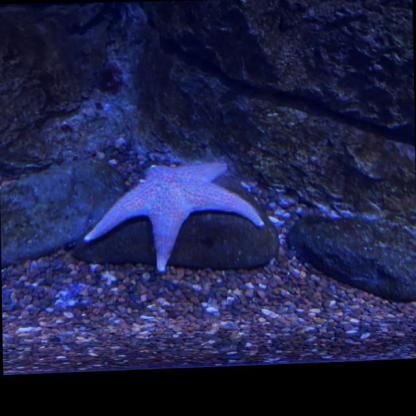starfish: (83, 160, 263, 273)
